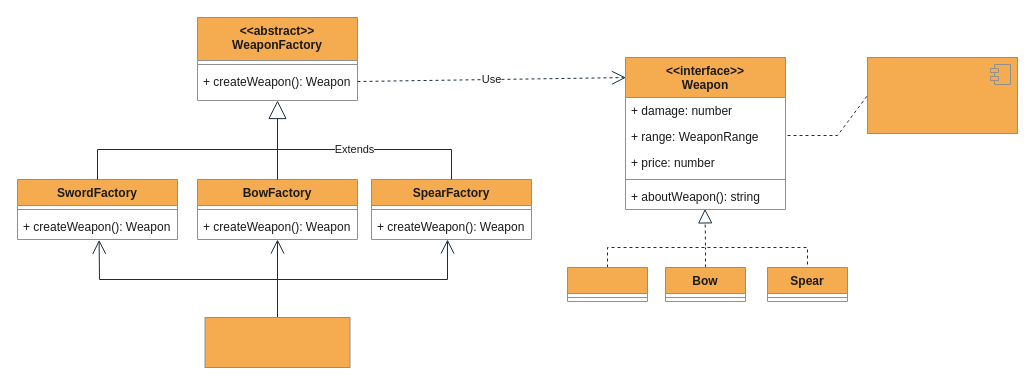
Some shapes in this 1035 by 385 pixel diagram are drawn without their labels. Each missing label, with the centre of its shape:
<<function>> createWeapon(): Weapon: [277,342]
Sword: [607,284]
«Annotation» WeaponRange is enum: [942,95]
